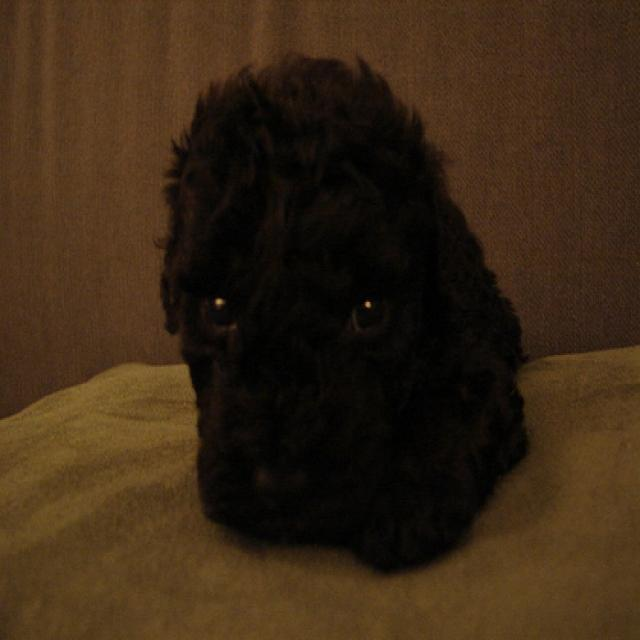dog: (149, 68, 516, 578)
